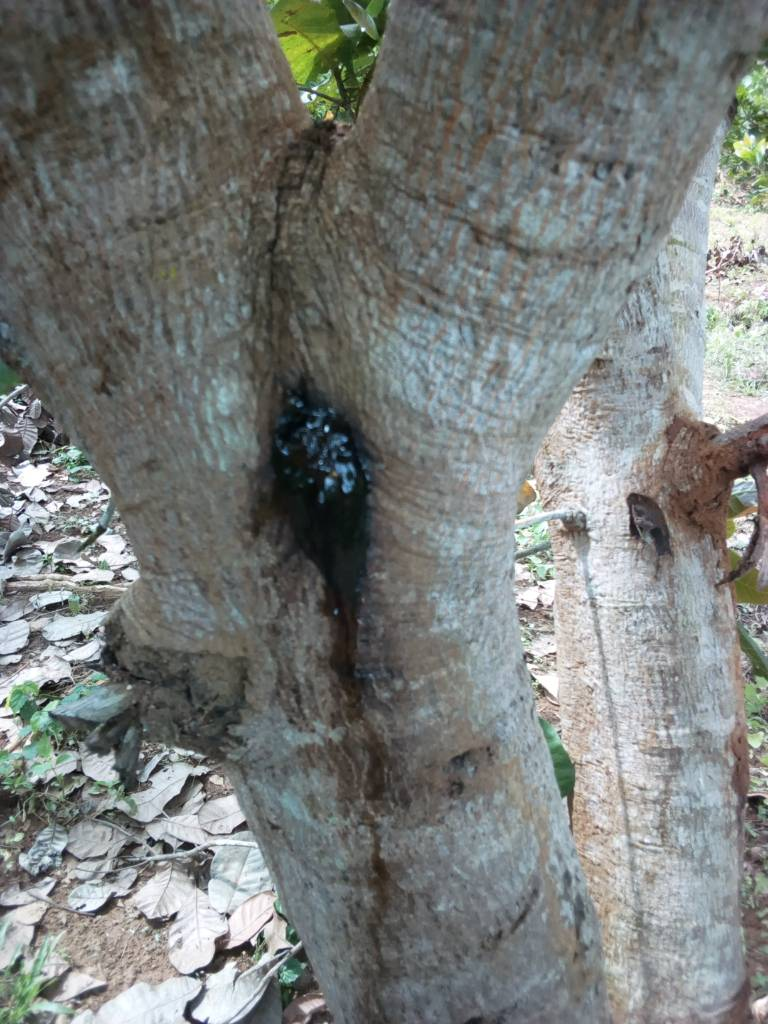Gommose: (269, 386, 372, 647)
